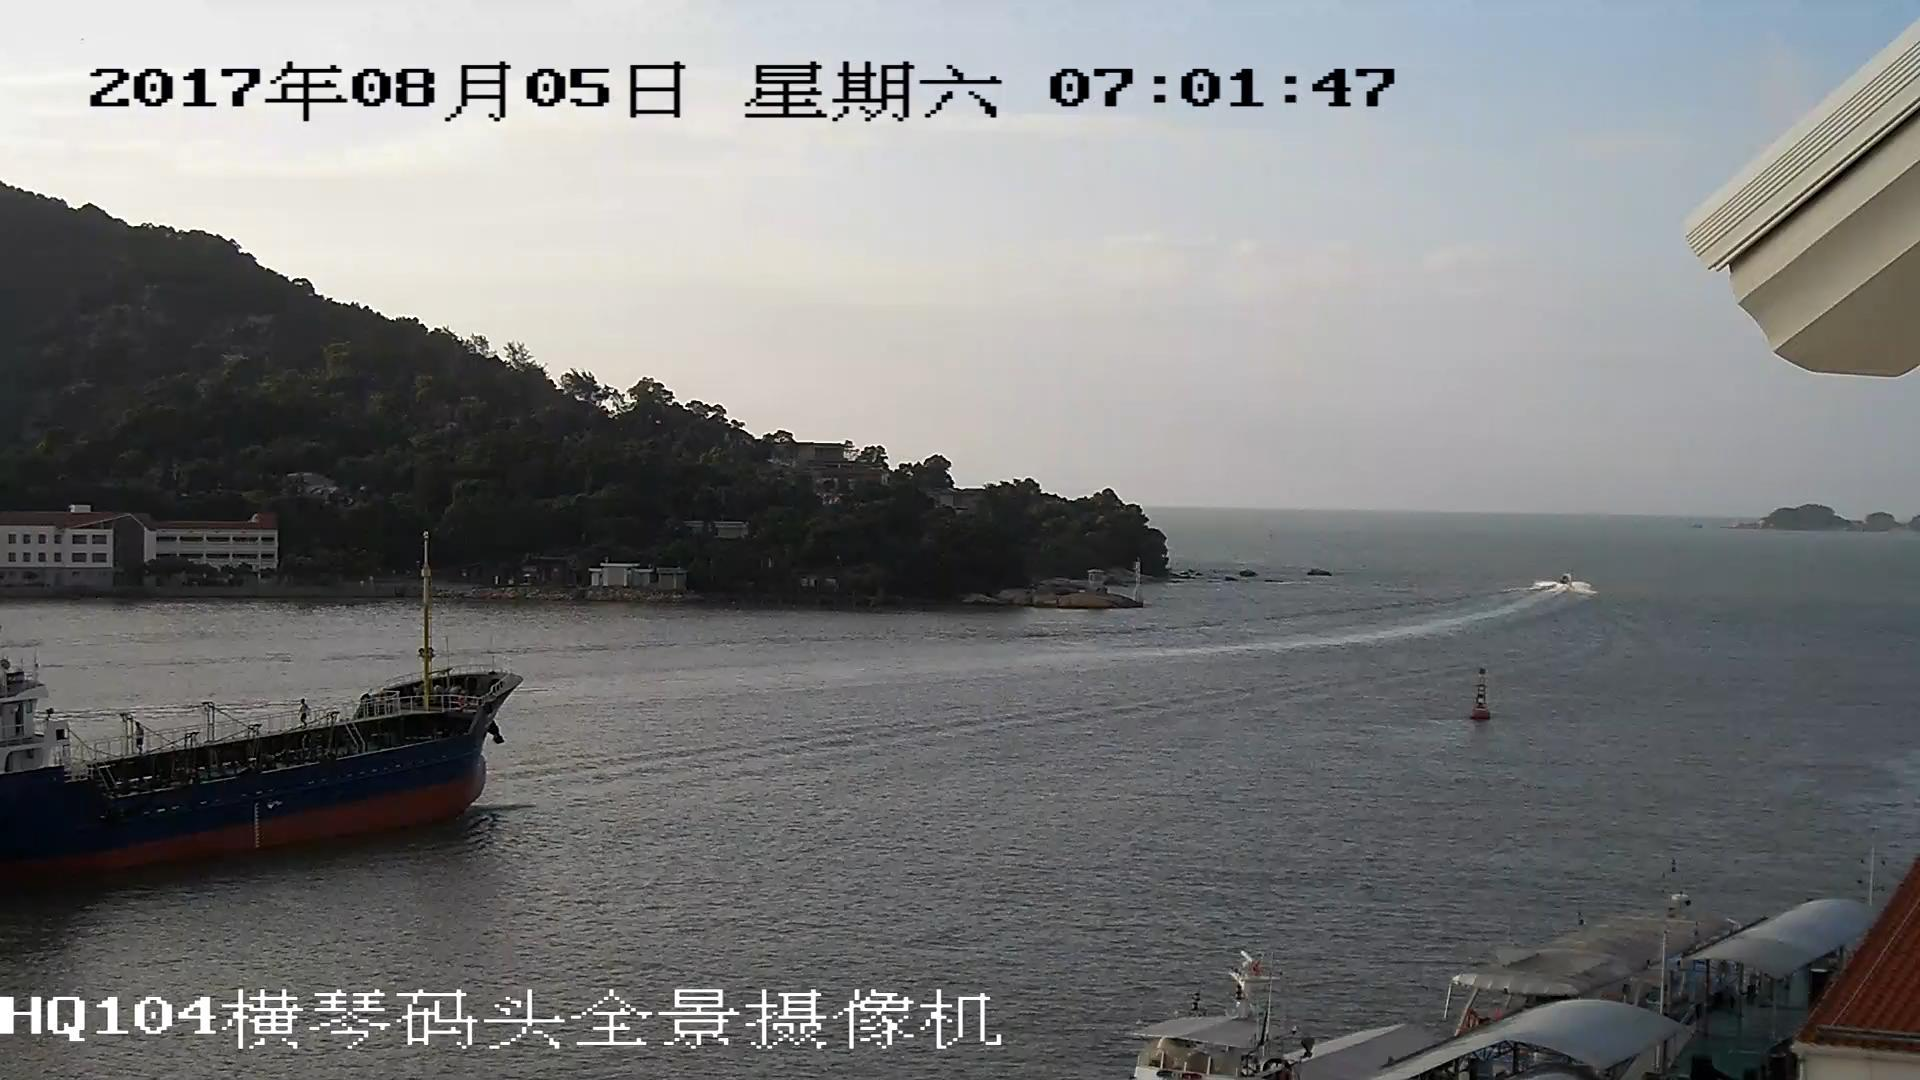Ship: (3, 525, 530, 905)
